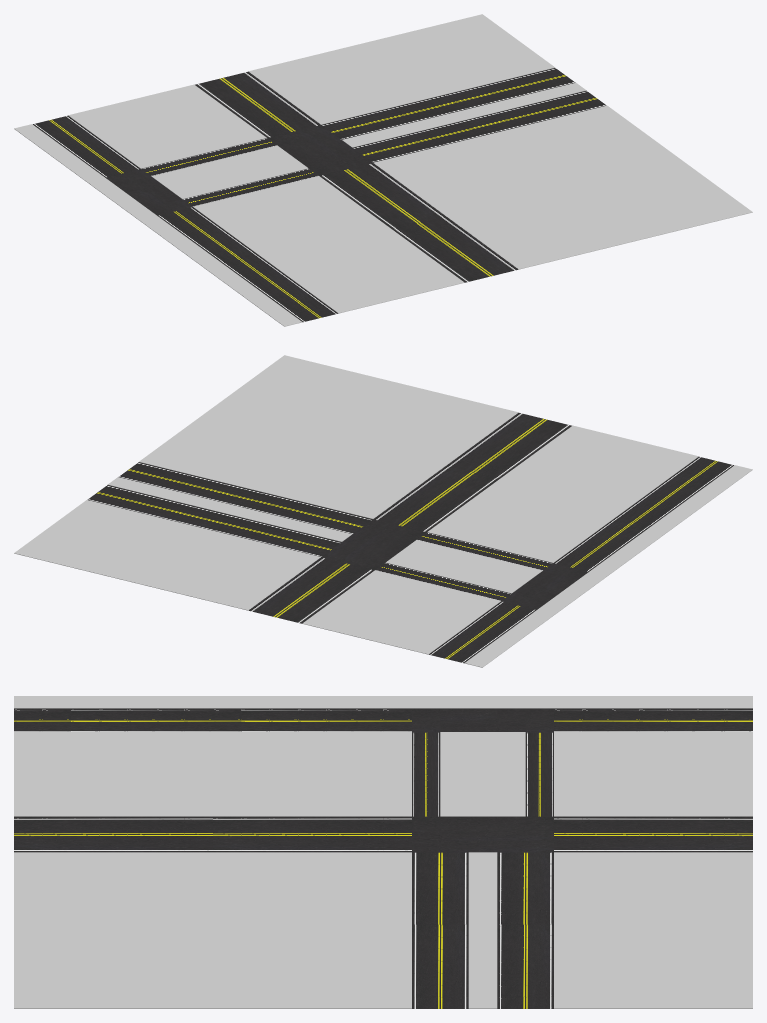
File: Calles.fbx
3 renders of one model, top to bottom at view 1: azimuth 30°, elevation 25°; view 2: azimuth 150°, elevation 25°; view 3: azimuth 270°, elevation 25°, orthographic. The views are drawn at different scales.
Parts seen in each view (by area): view 1: Calles.003, Calles; view 2: Calles.003, Calles; view 3: Calles.003, Calles.
Part boxes in pixels (x1,y1,x2,y2): Calles.003: (14,14,752,326); Calles: (33,68,606,322); Calles.003: (14,355,752,667); Calles: (87,413,733,663); Calles.003: (14,696,752,1008); Calles: (14,708,752,1008).
Bounding box in the file's own units: 26433 × 20 × 26433.
